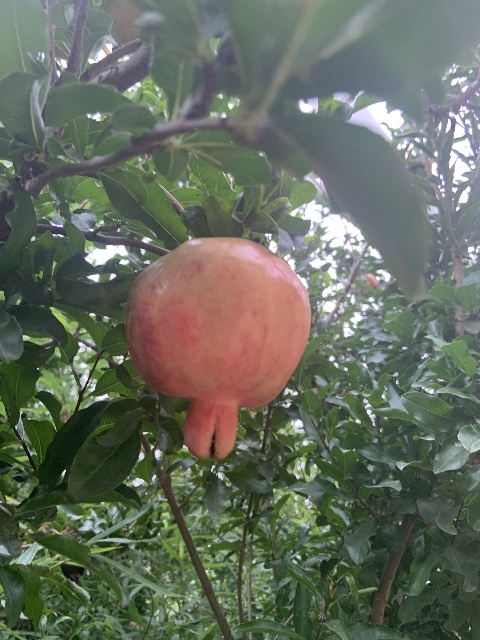ripe: (124, 236, 310, 461)
